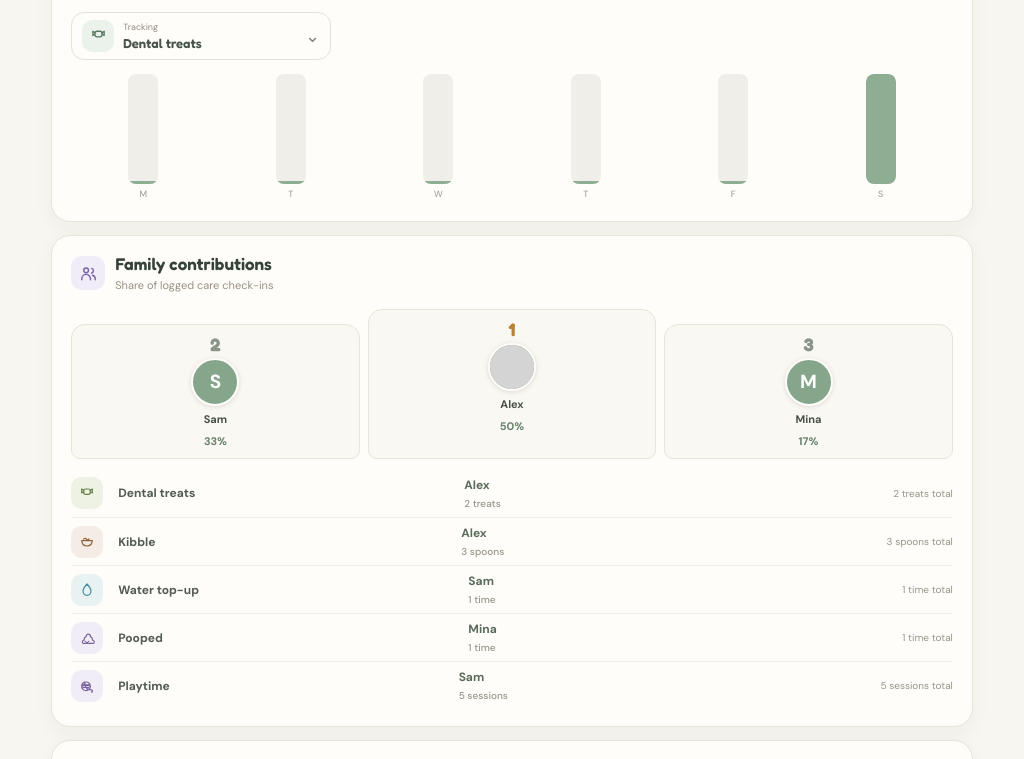
Test: Analytics page › ranks the top three by share of care check-ins and filters the breakdown when selected
(page scrolled)
Expected: the button with aria-label "Show contributions for Sam, rank 2, 33%" is shown, [71, 324, 360, 459]
Expected: the button with aria-label "Show contributions for Mina, rank 3, 17%" is shown, [664, 324, 953, 459]
Step 1. Click the button with aria-label "Show contributions for Alex, rank 1, 50%" → (512, 384), box [368, 309, 656, 459]
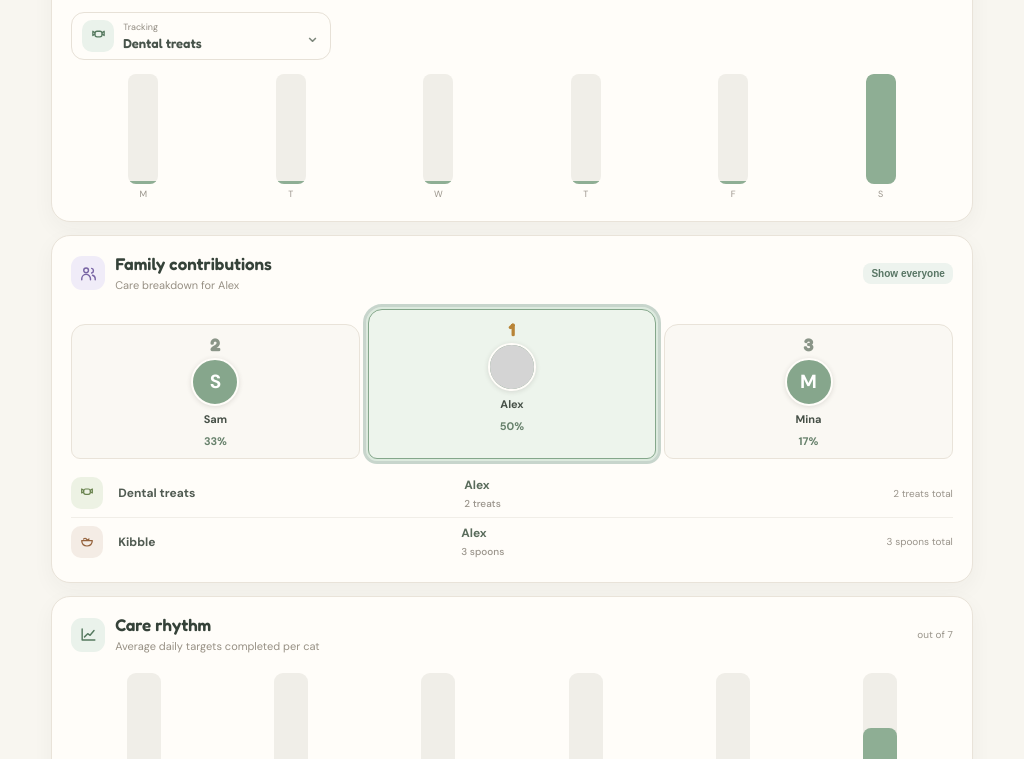
Expected: the text "Dental treats" below "Care breakdown for Alex" is shown, [118, 485, 195, 501]
Now the text "Care breakdown for Alex" is shown, box [115, 278, 239, 292]
Now the text "Playtime" is gone
Step 2. Click the button "Show everyone" → (908, 273), box [864, 262, 953, 284]
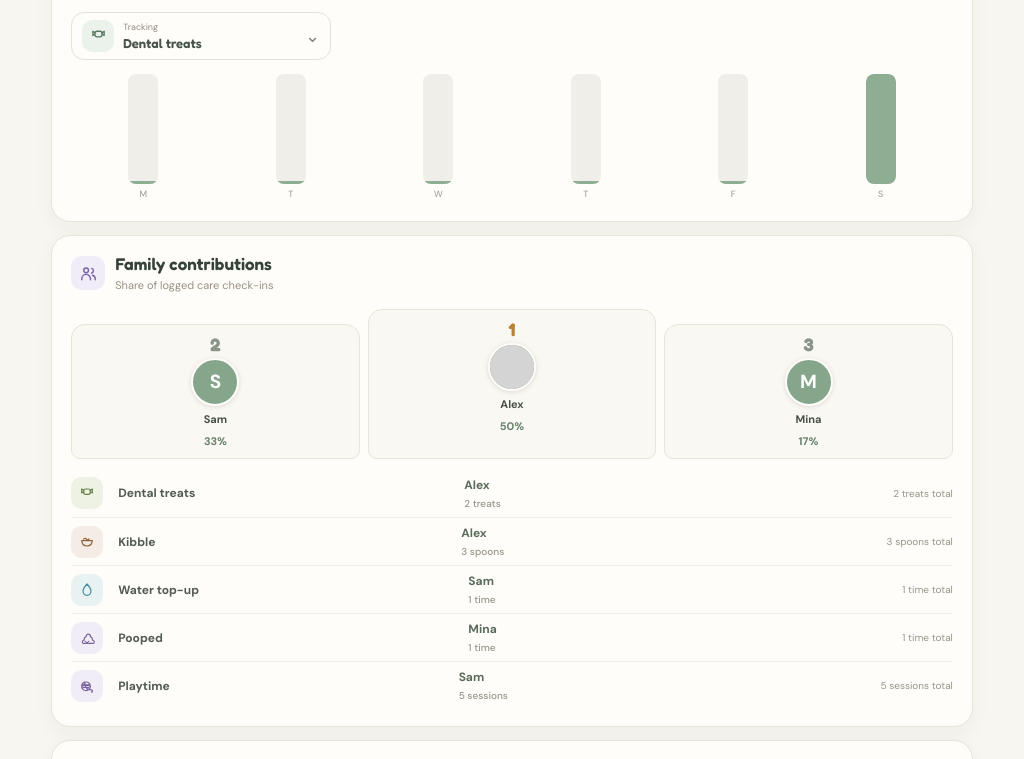
Now the text "Share of logged care check-ins" is shown, box [115, 277, 273, 293]
